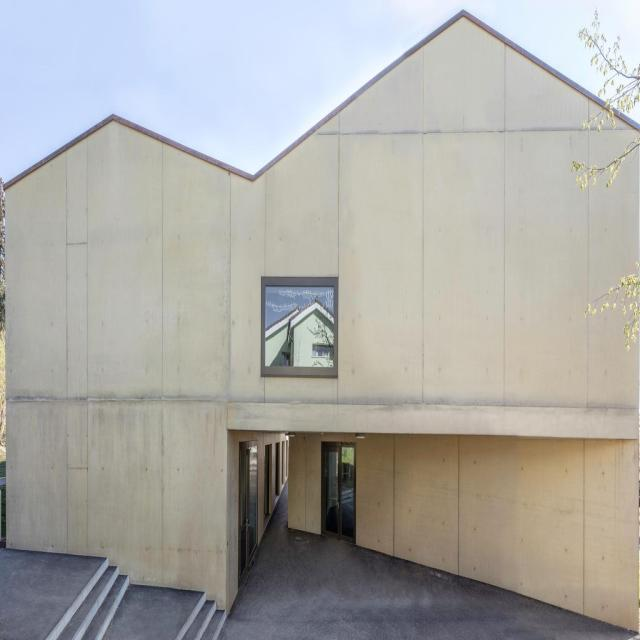door: (322, 441, 356, 546)
window: (261, 274, 339, 378)
